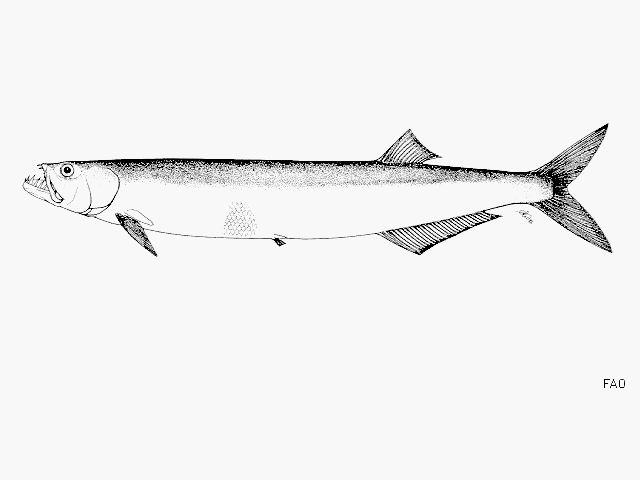fish: (23, 123, 616, 257)
